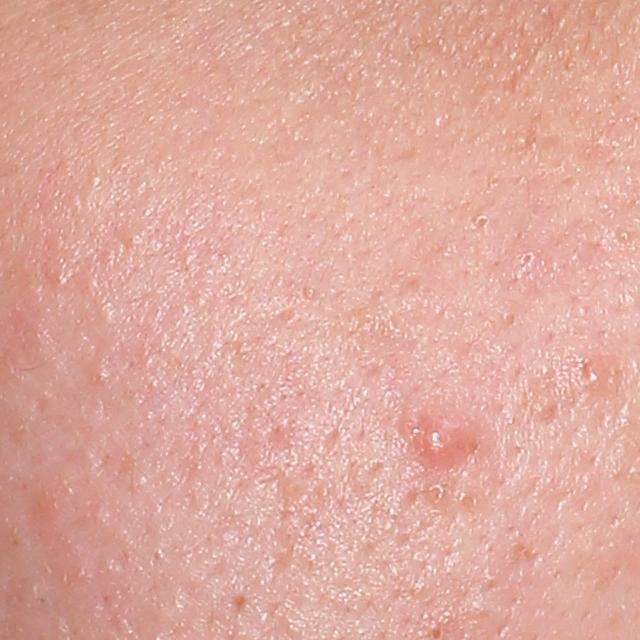comedo: (580, 359, 619, 395), (419, 480, 447, 508), (457, 489, 483, 514)
